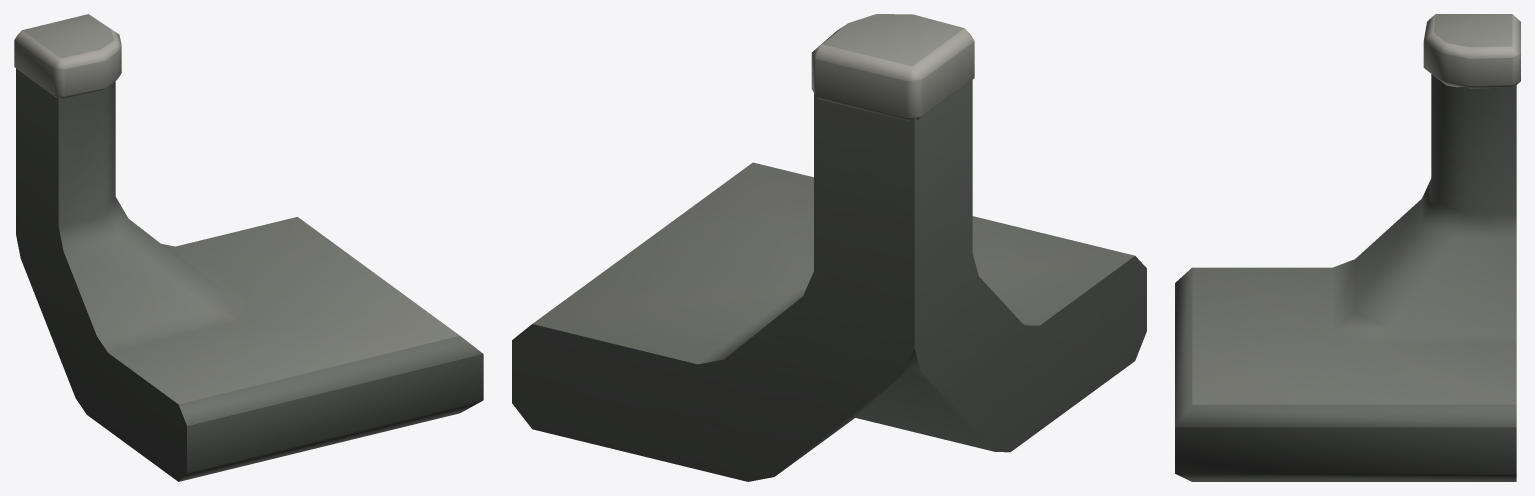
File: canal_wall_section_corner_convex.fbx
3 views of the same model, side by side, from view 1: azimuth 30°, elevation 25°; view 2: azimuth 150°, elevation 25°; view 3: azimuth 270°, elevation 25° (orthographic). The views are drawn at different scales.
Parts seen in each view (by area): view 1: canal_wall_section_corner_convex; view 2: canal_wall_section_corner_convex; view 3: canal_wall_section_corner_convex.
Boxes of the visible parts, left/top/right/bottom form: canal_wall_section_corner_convex: left=14, top=14, right=483, bottom=481; canal_wall_section_corner_convex: left=512, top=14, right=1146, bottom=481; canal_wall_section_corner_convex: left=1175, top=14, right=1520, bottom=481.
Bounding box in the file's own units: 405 × 430 × 405.
